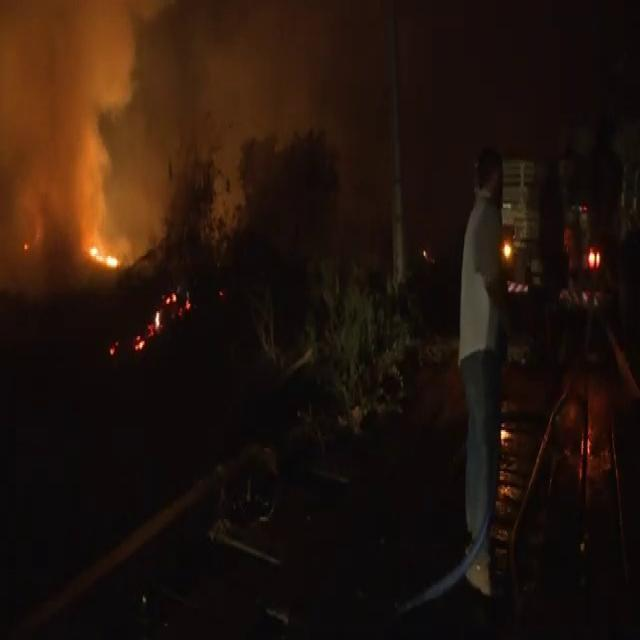Fire: (89, 240, 121, 272)
Smoke: (0, 16, 320, 227), (8, 10, 170, 198)
